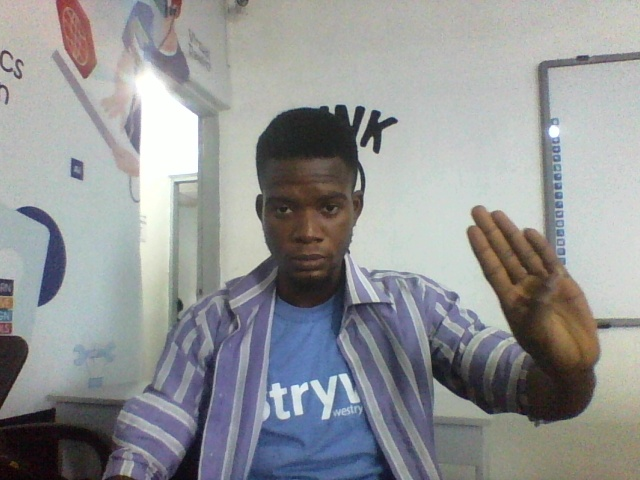hello: (460, 199, 613, 396)
